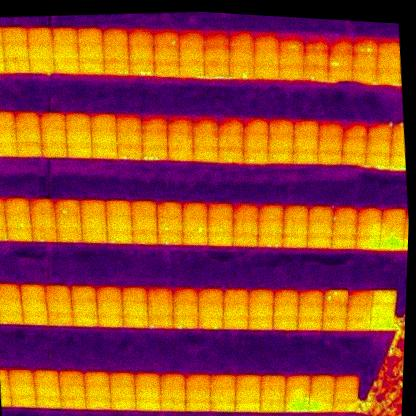Diode: (328, 49, 353, 68)
Hotspot: (152, 27, 179, 48), (147, 311, 175, 331), (30, 224, 58, 244), (257, 202, 284, 222), (128, 57, 155, 77), (102, 57, 129, 77), (29, 56, 56, 76), (352, 34, 379, 54), (181, 216, 209, 235), (206, 215, 234, 234), (217, 145, 245, 164), (116, 142, 144, 161), (153, 59, 181, 78), (333, 205, 359, 225), (278, 31, 304, 51), (106, 228, 133, 247), (380, 219, 407, 238), (307, 204, 334, 223), (6, 211, 33, 230), (29, 197, 56, 216), (322, 287, 350, 305), (131, 228, 159, 246), (54, 198, 82, 216), (141, 143, 169, 161), (304, 32, 329, 52), (157, 228, 183, 247), (157, 214, 183, 233), (243, 145, 269, 164), (367, 120, 393, 139), (303, 63, 329, 82), (197, 313, 224, 331), (256, 231, 283, 249), (256, 217, 283, 235), (259, 386, 287, 403), (172, 299, 199, 316), (284, 386, 311, 403), (229, 61, 256, 78), (309, 374, 337, 390), (173, 313, 199, 330), (48, 311, 74, 328), (355, 234, 380, 251), (0, 309, 24, 326), (0, 140, 19, 158), (0, 109, 16, 128)
Normal: (278, 61, 305, 84), (231, 200, 260, 221), (281, 203, 310, 223), (180, 200, 209, 220), (141, 126, 168, 147), (116, 126, 143, 147), (192, 112, 219, 133), (155, 199, 183, 219), (79, 196, 107, 216), (53, 56, 81, 76), (3, 55, 31, 75), (77, 41, 105, 61), (127, 27, 155, 47), (101, 27, 129, 47), (254, 61, 280, 82), (232, 229, 259, 249), (56, 225, 83, 245), (4, 196, 31, 216), (268, 145, 295, 165), (243, 115, 270, 135), (14, 109, 41, 129), (178, 43, 205, 63), (328, 32, 355, 52), (247, 313, 275, 332), (273, 286, 301, 305), (6, 225, 34, 244), (242, 130, 270, 149), (102, 42, 130, 61), (177, 28, 205, 47), (76, 26, 104, 45), (25, 26, 53, 45), (206, 201, 235, 219), (67, 140, 93, 160), (17, 140, 43, 160), (254, 45, 280, 65), (72, 309, 99, 328), (122, 296, 149, 315), (305, 232, 332, 251), (106, 213, 133, 232), (80, 212, 107, 231), (365, 148, 392, 167), (292, 146, 319, 165), (91, 140, 118, 159), (218, 130, 245, 149), (167, 128, 194, 147), (40, 124, 67, 143), (15, 124, 42, 143), (278, 46, 305, 65), (128, 43, 155, 62), (27, 41, 54, 60), (3, 40, 30, 59), (51, 26, 78, 45), (1, 25, 28, 44), (345, 313, 373, 331), (346, 300, 374, 318), (222, 286, 250, 304), (146, 284, 174, 302), (331, 397, 359, 415), (206, 230, 234, 248), (281, 218, 309, 236), (267, 132, 295, 150), (90, 126, 118, 144), (77, 57, 105, 75), (52, 41, 80, 59), (108, 370, 136, 388), (82, 369, 110, 387), (123, 310, 149, 329), (342, 148, 368, 167), (193, 129, 219, 148), (375, 50, 401, 69), (303, 48, 329, 67), (253, 30, 279, 49), (203, 31, 229, 50), (228, 30, 254, 49), (321, 314, 348, 332), (297, 314, 324, 332), (370, 301, 397, 319), (197, 299, 224, 317), (298, 287, 325, 305), (172, 284, 199, 302), (121, 283, 148, 301), (281, 232, 308, 250), (105, 198, 132, 216), (316, 147, 343, 165), (167, 144, 194, 162), (41, 140, 68, 158), (318, 119, 345, 137), (65, 125, 92, 143), (293, 117, 320, 135), (218, 114, 245, 132), (141, 112, 168, 130), (90, 111, 117, 129), (64, 110, 91, 128), (39, 110, 66, 128), (179, 59, 206, 77), (203, 46, 230, 64), (153, 44, 180, 62), (97, 311, 125, 328), (96, 297, 124, 314), (81, 227, 109, 244), (232, 217, 260, 234), (341, 134, 369, 151), (342, 120, 370, 137), (267, 118, 295, 135), (34, 393, 62, 410), (259, 374, 287, 391), (234, 373, 262, 390), (7, 368, 35, 385), (358, 206, 383, 225), (376, 35, 401, 54), (72, 295, 98, 313), (131, 199, 157, 217), (352, 51, 378, 69), (229, 46, 255, 64), (368, 315, 395, 332), (273, 314, 300, 331), (247, 300, 274, 317), (46, 296, 73, 313), (197, 285, 224, 302), (331, 233, 358, 250), (307, 220, 334, 237), (55, 212, 82, 229), (234, 397, 261, 414), (110, 395, 137, 412), (317, 134, 344, 151), (85, 394, 112, 411), (292, 132, 319, 149), (234, 385, 261, 402), (203, 60, 230, 77), (379, 234, 404, 252), (321, 302, 349, 318), (296, 302, 324, 318), (70, 283, 98, 299), (29, 212, 57, 228), (10, 392, 38, 408), (109, 383, 137, 399), (159, 374, 187, 390), (133, 373, 161, 389), (32, 370, 60, 386), (223, 313, 249, 330), (273, 301, 299, 318), (22, 295, 48, 312), (46, 283, 72, 300), (131, 214, 157, 231), (185, 397, 211, 414), (160, 396, 186, 413), (193, 145, 219, 162), (366, 135, 392, 152), (167, 113, 193, 130), (116, 112, 142, 129), (376, 67, 402, 84), (351, 65, 377, 82), (327, 65, 353, 82), (334, 374, 360, 391), (210, 372, 236, 389), (223, 300, 250, 316), (347, 289, 374, 305), (248, 287, 275, 303), (96, 284, 123, 300), (332, 221, 359, 237), (381, 207, 408, 223), (84, 383, 111, 399), (285, 374, 312, 390), (57, 371, 84, 387), (308, 387, 336, 402), (23, 310, 49, 326), (147, 299, 173, 315), (372, 289, 398, 305), (182, 231, 208, 247), (210, 397, 236, 413), (210, 385, 236, 401), (185, 374, 211, 390), (20, 284, 47, 299), (355, 222, 382, 237), (135, 397, 162, 412), (60, 394, 87, 409), (34, 382, 61, 397), (0, 282, 22, 300), (8, 382, 36, 396), (308, 398, 334, 413), (333, 386, 359, 401), (135, 385, 161, 400), (59, 383, 85, 398), (260, 399, 285, 414), (0, 296, 23, 312), (284, 399, 310, 413), (185, 387, 211, 401), (160, 387, 186, 401), (0, 124, 16, 142)
